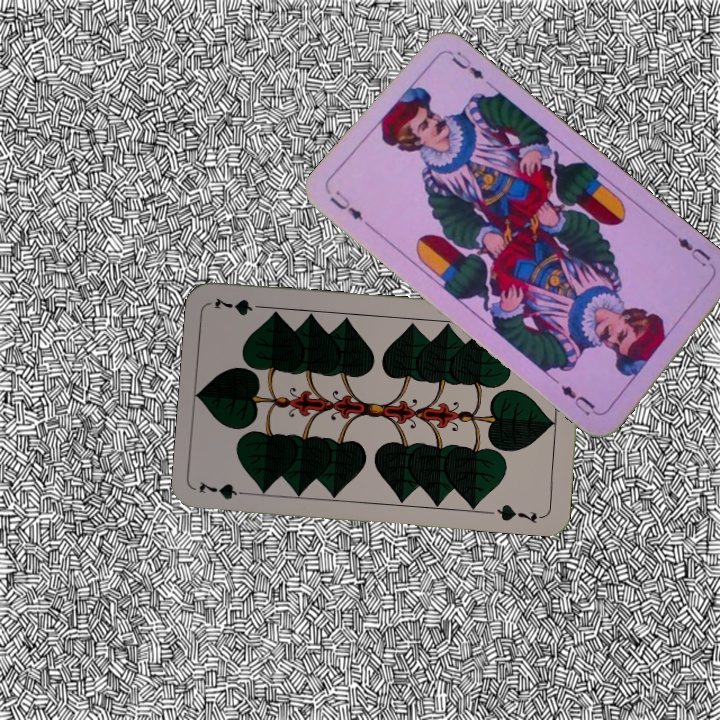EU: (673, 233, 717, 272), (326, 186, 366, 224)
G7: (195, 477, 255, 502)
